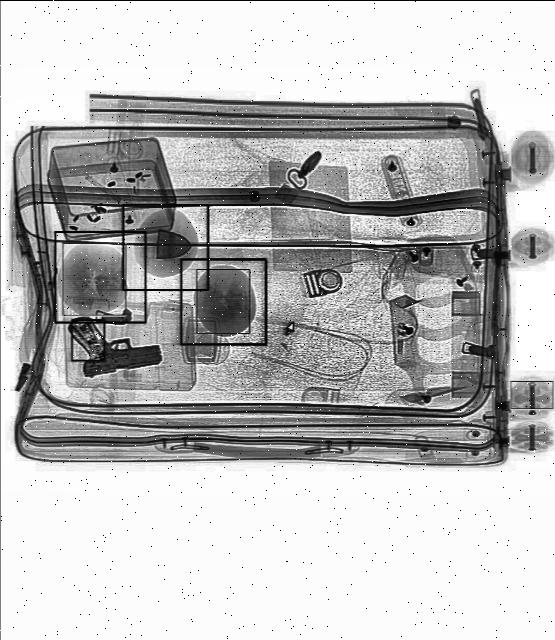Gun: (70, 301, 164, 379)
